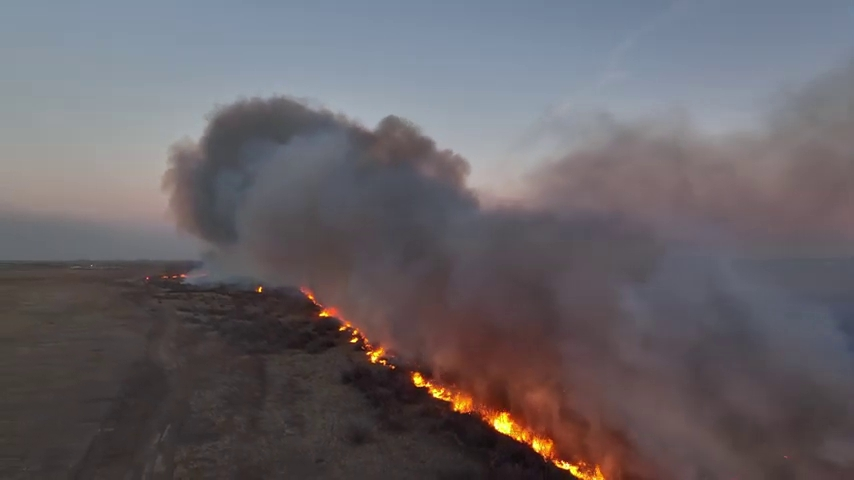forest_fire: (409, 371, 604, 479), (300, 287, 394, 368)
